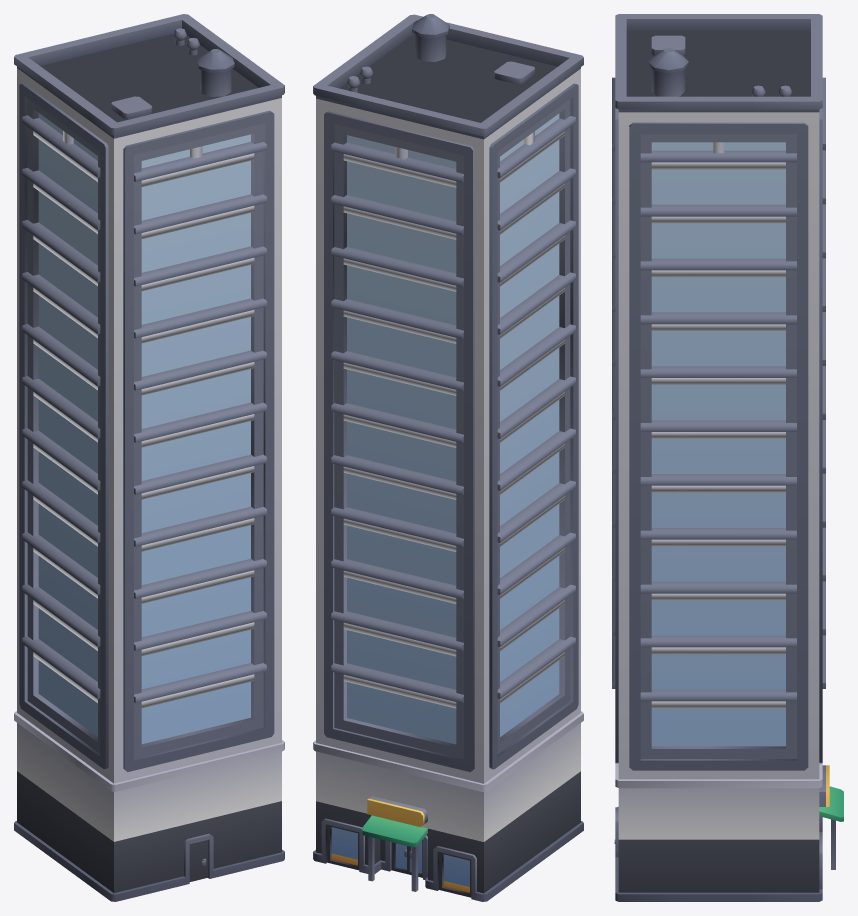
File: building-skyscraper-d.glb
3 renders of one model, left to right at view 1: azimuth 30°, elevation 25°; view 2: azimuth 150°, elevation 25°; view 3: azimuth 270°, elevation 25°, orthographic. The views are drawn at different scales.
Parts seen in each view (by area): view 1: building-skyscraper-d; view 2: building-skyscraper-d; view 3: building-skyscraper-d.
Boxes of the visible parts, box(x1,y1,x2,y2) form: building-skyscraper-d: box(14, 14, 284, 901); building-skyscraper-d: box(313, 14, 583, 901); building-skyscraper-d: box(612, 14, 843, 901).
Size of the model in its own units: 1.28 by 5.47 by 1.39.
Materials: 1 (1 with a texture image).
